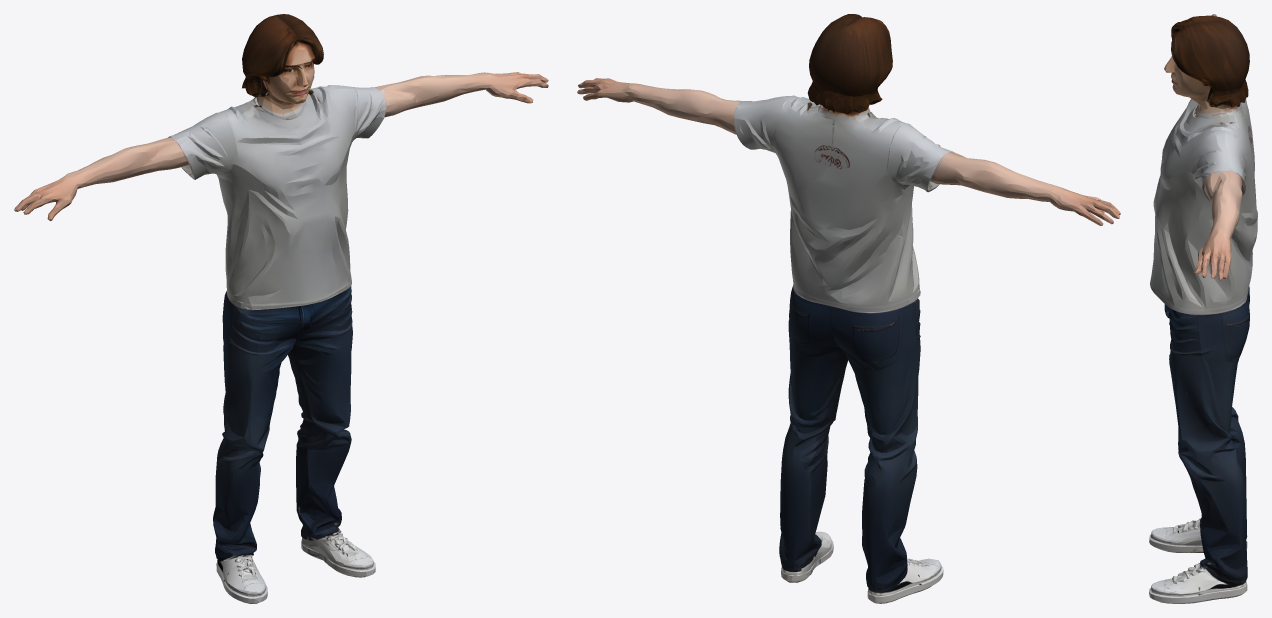
The model's file is villager.gltf.
3 views of the same model, side by side, from view 1: azimuth 30°, elevation 25°; view 2: azimuth 150°, elevation 25°; view 3: azimuth 270°, elevation 25° (orthographic).
Visible parts, largest first — view 1: Object_3, Object_2; view 2: Object_3, Object_2; view 3: Object_3, Object_2.
Boxes of the visible parts, x1,y1,x2,y2 form: Object_3: (14,14,548,603); Object_2: (14,31,548,603); Object_3: (577,14,1119,603); Object_2: (577,18,1120,602); Object_3: (1149,14,1257,603); Object_2: (1149,18,1252,603).
Size of the model in its own units: 1.83 by 1.81 by 0.3229.
Materials: 1 (1 with a texture image).
